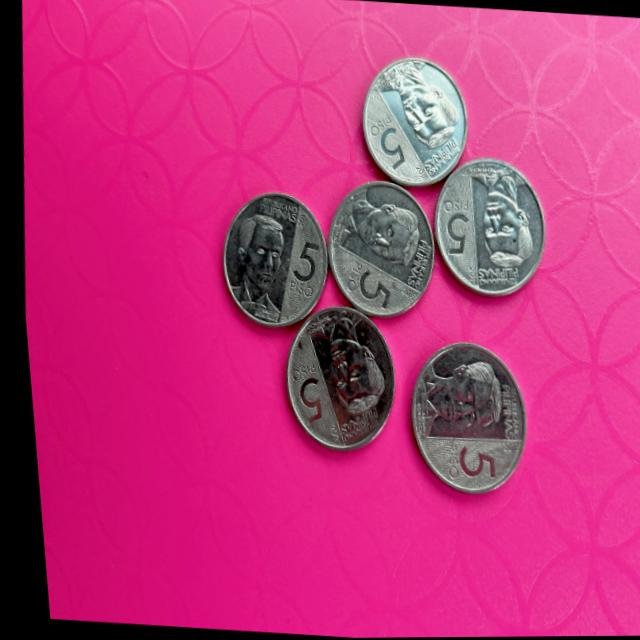5_New_Front: (276, 350, 334, 435), (429, 169, 476, 259), (434, 436, 504, 486), (355, 109, 410, 172), (277, 240, 327, 307), (340, 256, 397, 308)
